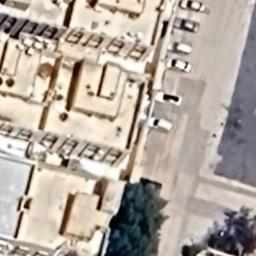sedan: (152, 86, 187, 108), (170, 14, 203, 34), (164, 57, 195, 74), (178, 0, 208, 14)
truck: (148, 114, 176, 132)
van: (166, 39, 194, 55)
